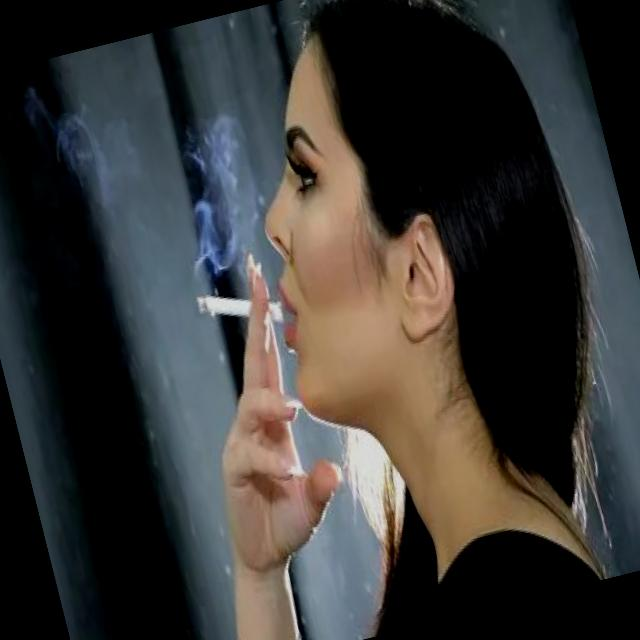cigarette: (193, 270, 292, 360)
